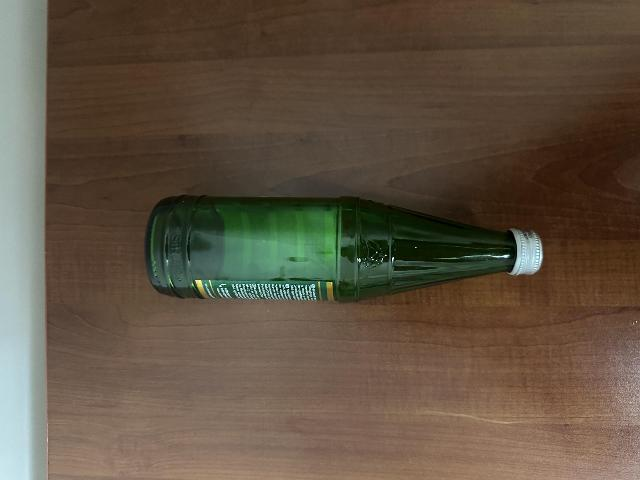Cam: (138, 202, 511, 302)
Metal: (513, 229, 543, 275)
